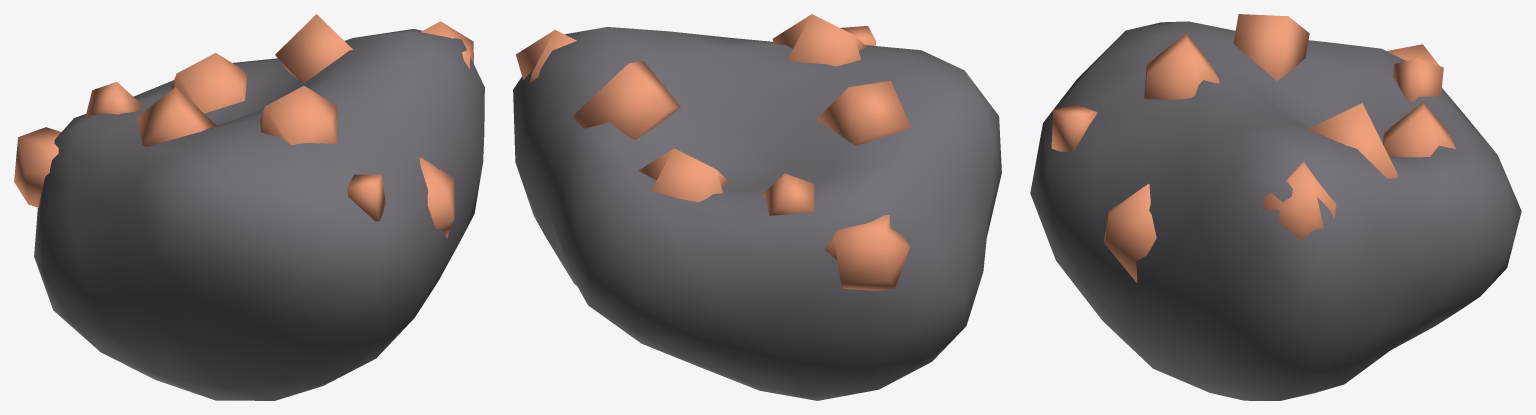
File: mena_cobre_final.fbx
The picture shows the model from 3 angles, left to right: view 1: azimuth 30°, elevation 25°; view 2: azimuth 150°, elevation 25°; view 3: azimuth 270°, elevation 25°; orthographic projection. The views are drawn at different scales.
Parts seen in each view (by area): view 1: Esfera geodésica; view 2: Esfera geodésica; view 3: Esfera geodésica.
Boxes of the visible parts, x1,y1,x2,y2 form: Esfera geodésica: (14,14,484,400); Esfera geodésica: (513,14,1001,400); Esfera geodésica: (1030,14,1521,400).
Bounding box in the file's own units: 249 × 174 × 226.
